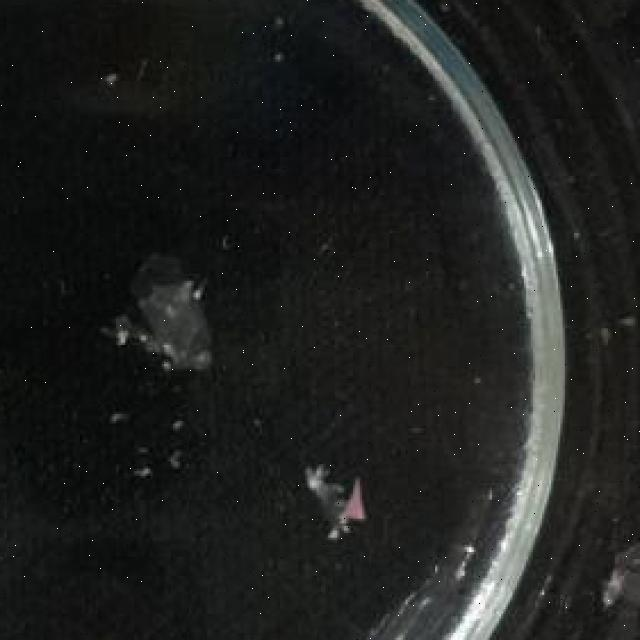Microplastic: (109, 286, 244, 400), (292, 459, 362, 564)
